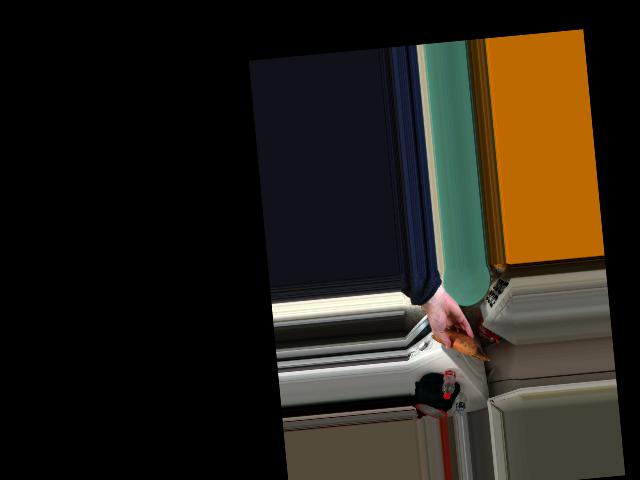sweet_potato: (439, 327, 475, 356)
